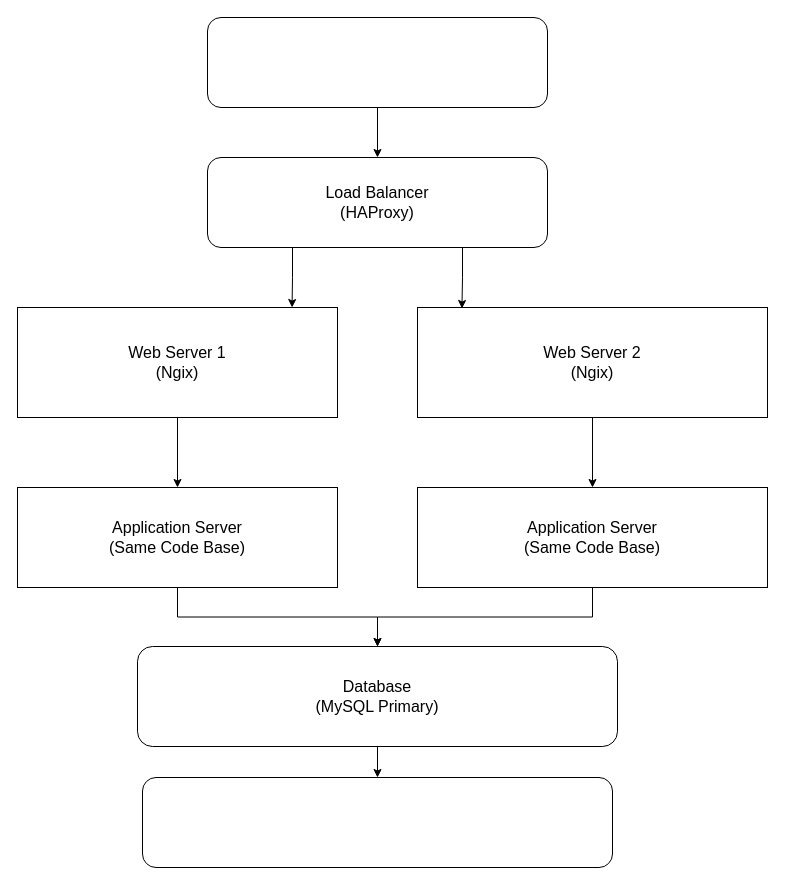
The diagram is 785 pixels wide and 885 high, and some of its shapes have lost their labels. The shapes that lost their labels are listed below. From the top down, each one's centre as x and y in pixels, then its label:
At point (377, 62): "DNS Server (Resolves www.foobar.com)".
At point (377, 822): "Database Replica (MySQL Replica)".
